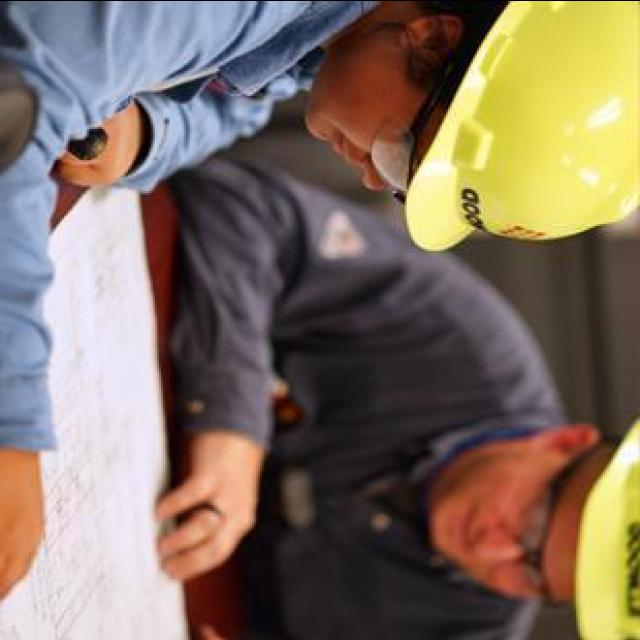helmet: (393, 0, 640, 257), (572, 407, 640, 640)
